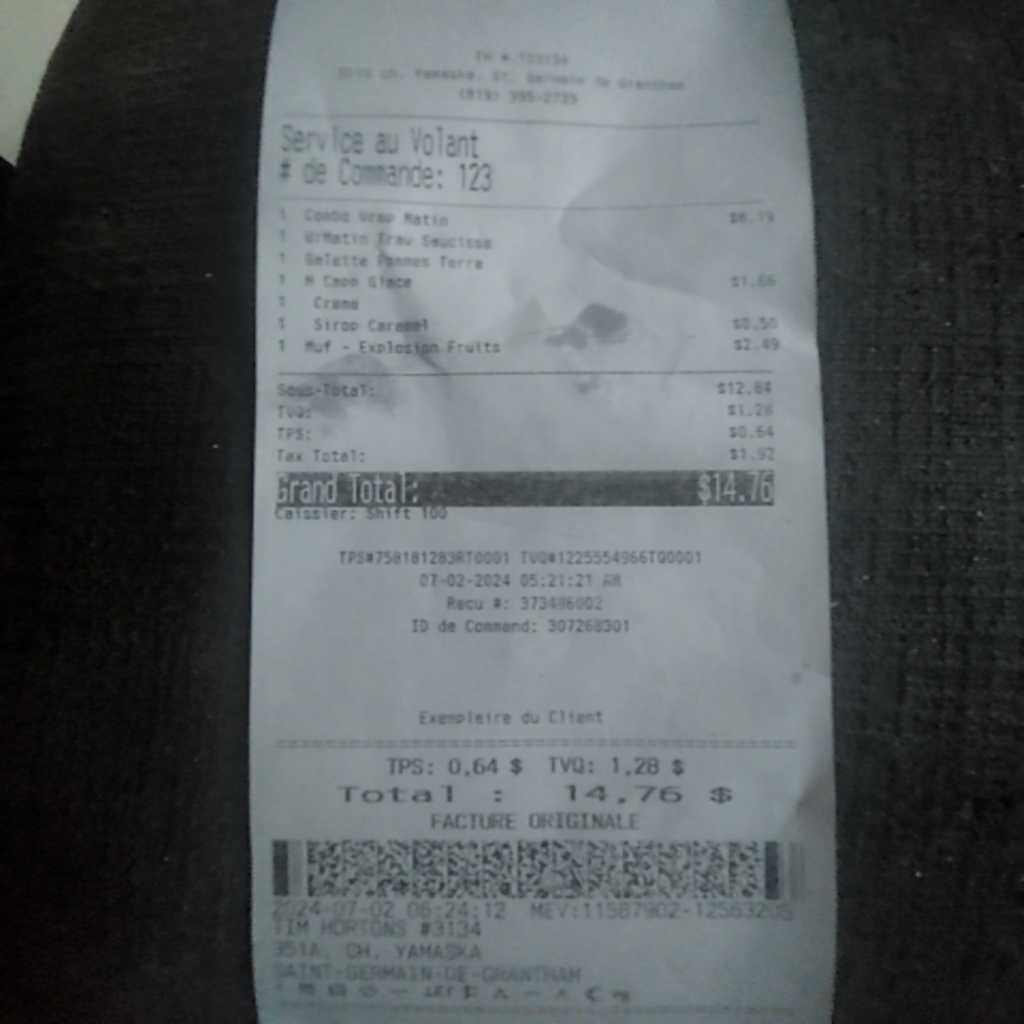recipt: (246, 0, 842, 1007)
